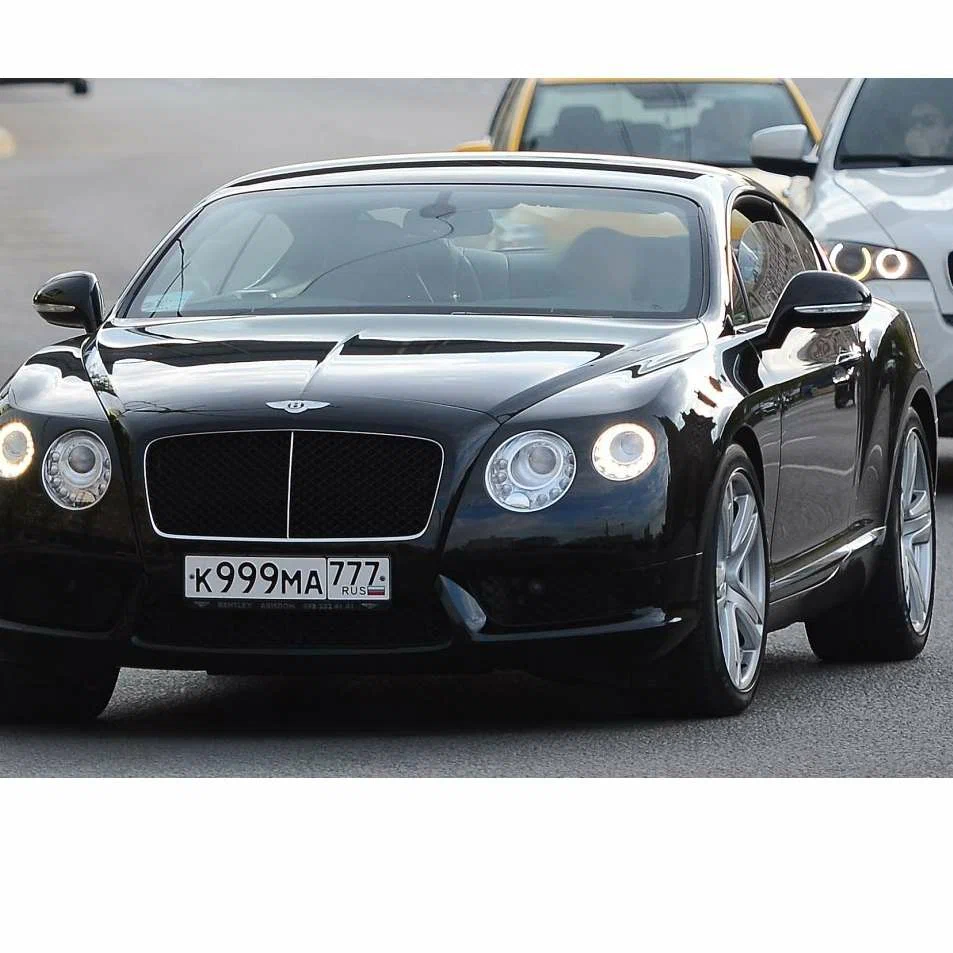number_plate: (177, 548, 399, 615)
